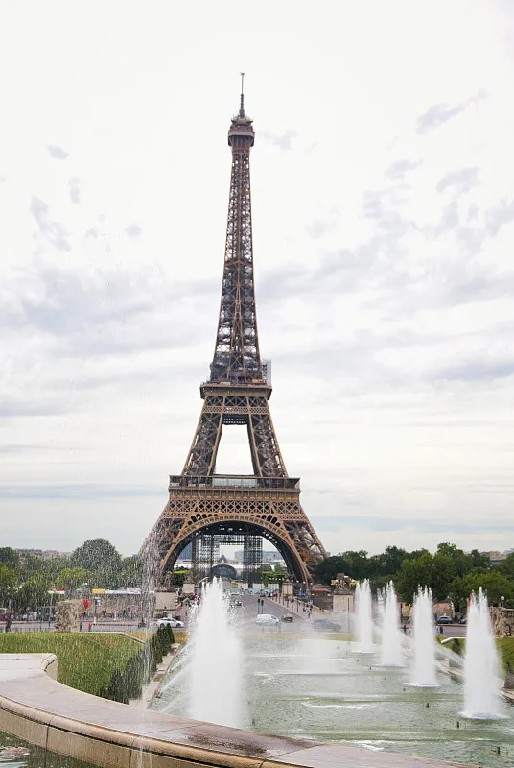Eiffel: (133, 72, 330, 592)
